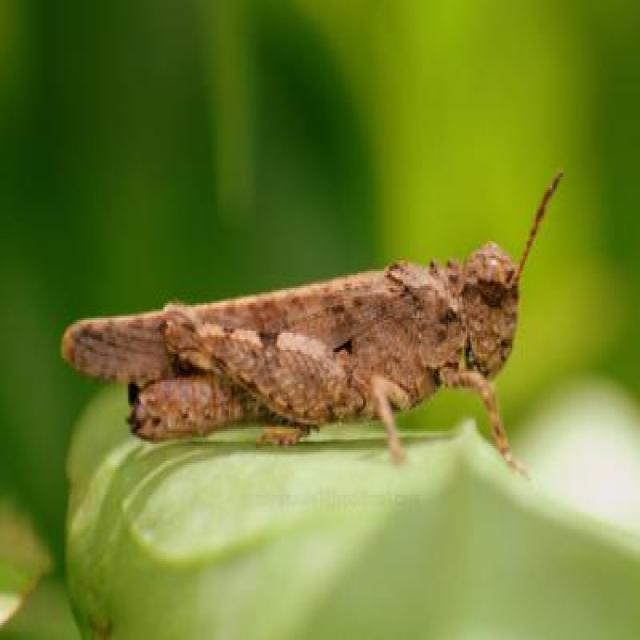antennae: (516, 171, 564, 275)
body: (65, 254, 518, 446)
insect: (57, 169, 567, 481)
legs: (437, 364, 525, 476), (254, 382, 358, 452), (363, 368, 415, 456)
mouthpart: (470, 333, 509, 374)
wings: (62, 264, 410, 378)
